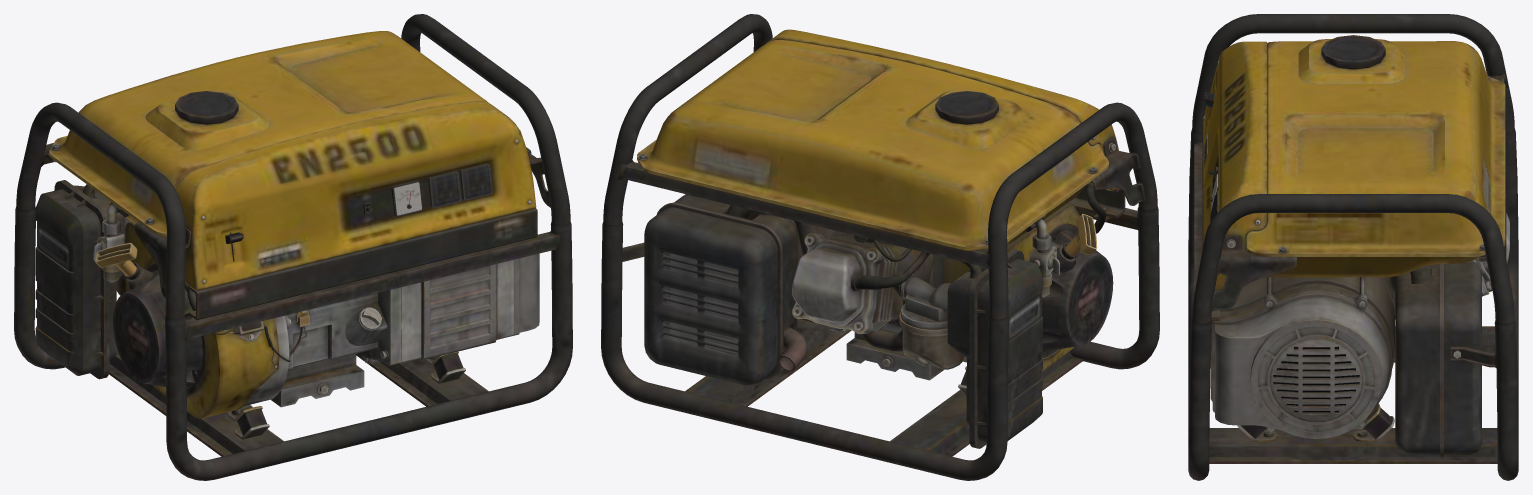
The model's file is portable_generator.glb.
3 renders of one model, left to right at view 1: azimuth 30°, elevation 25°; view 2: azimuth 150°, elevation 25°; view 3: azimuth 270°, elevation 25°, orthographic.
Parts seen in each view (by area): view 1: portable_generator; view 2: portable_generator; view 3: portable_generator.
Part boxes in pixels (<box>): portable_generator: <box>14,14,572,480</box>; portable_generator: <box>601,14,1159,480</box>; portable_generator: <box>1188,14,1518,480</box>.
Bounding box in the file's own units: 0.8183 × 0.577 × 0.564.
Materials: 2 (2 with a texture image).
